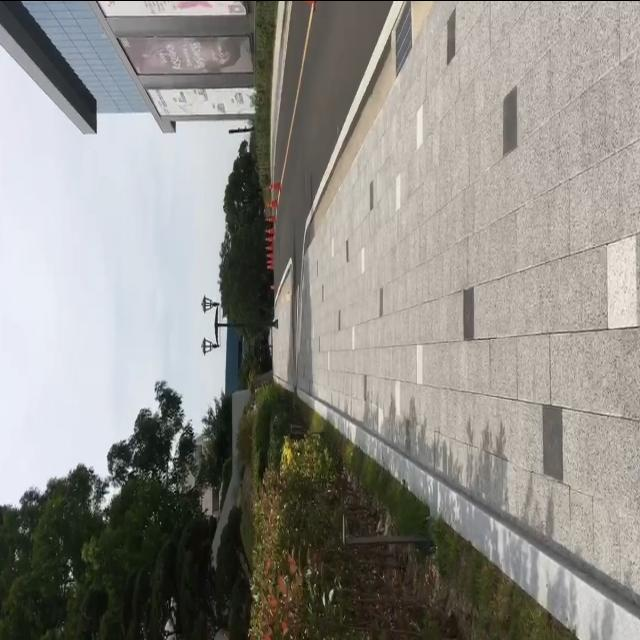obstacle: (198, 290, 281, 362), (281, 0, 320, 14)
sidewalk: (292, 0, 640, 640), (270, 0, 295, 179), (272, 274, 292, 399)
